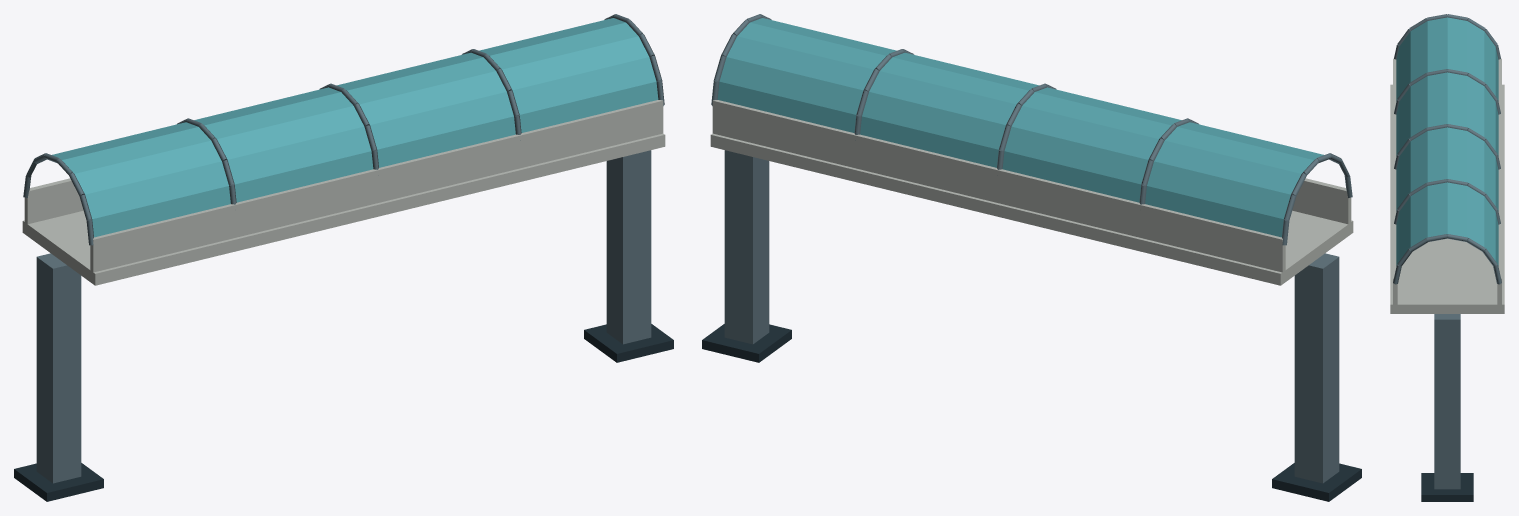
Rendered from bridge_d0_lod2.glb.
3 views of the same model, side by side, from view 1: azimuth 30°, elevation 25°; view 2: azimuth 150°, elevation 25°; view 3: azimuth 270°, elevation 25° (orthographic). The views are drawn at different scales.
Visible parts, largest first — view 1: BODY; view 2: BODY; view 3: BODY.
Boxes of the visible parts, left/top/right/bottom form: BODY: left=14, top=14, right=673, bottom=501; BODY: left=702, top=14, right=1361, bottom=501; BODY: left=1390, top=14, right=1504, bottom=501.
Bounding box in the file's own units: 22 × 10.9 × 4.4.
